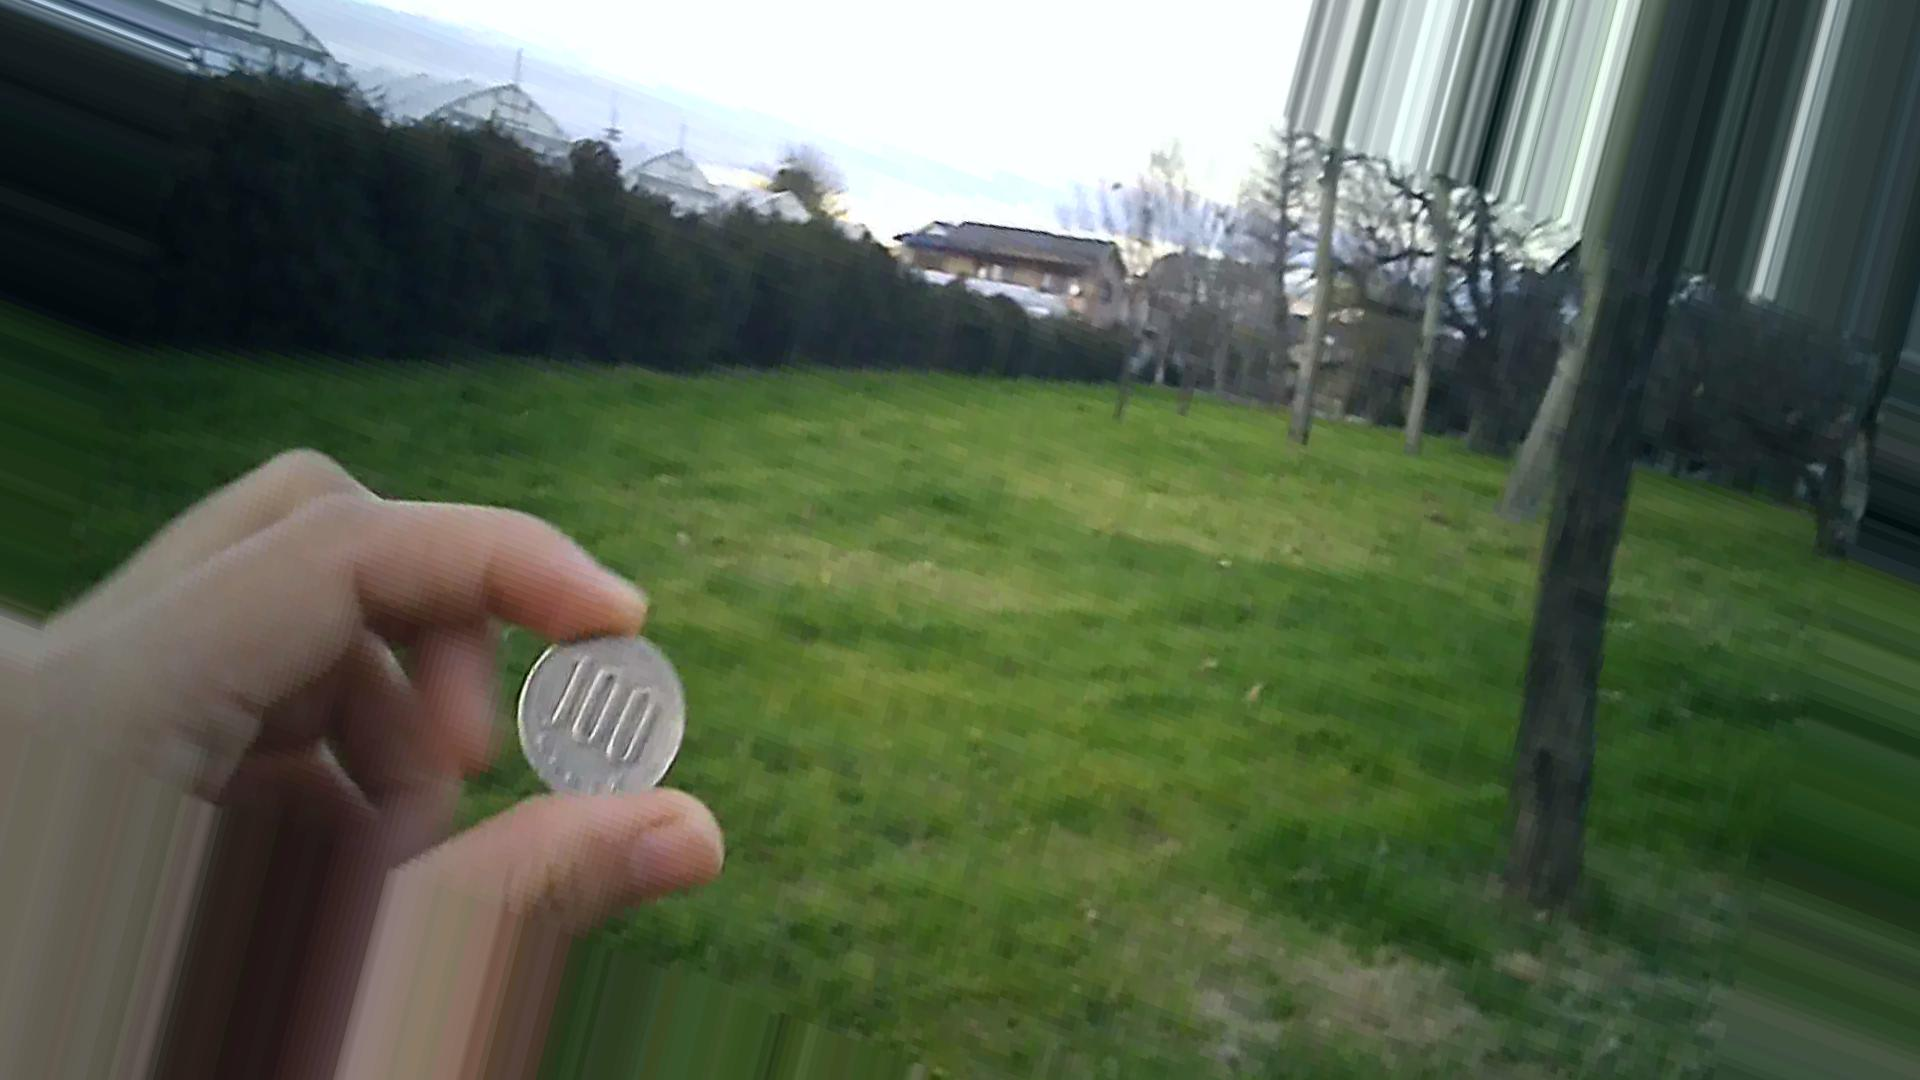100 Yen: (509, 617, 676, 790)
